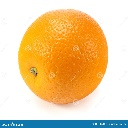orange: (15, 9, 116, 106)
